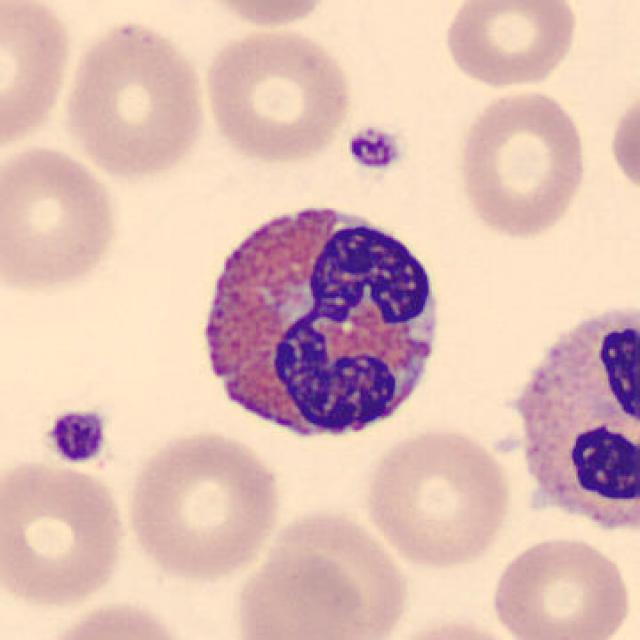Eosinophil: (181, 187, 455, 458)
Monocyte: (496, 287, 640, 550)
Neutrophil: (498, 291, 640, 546)
Platelets: (41, 406, 112, 467), (343, 124, 405, 174)
RBC: (119, 425, 286, 583), (57, 16, 211, 181), (199, 21, 357, 168), (361, 423, 515, 571), (452, 83, 592, 241), (0, 455, 132, 612), (0, 139, 124, 297), (487, 532, 635, 640), (230, 545, 390, 640), (439, 0, 581, 92), (0, 0, 76, 160), (29, 596, 199, 640), (188, 0, 339, 30), (371, 613, 528, 640), (606, 83, 640, 204)
